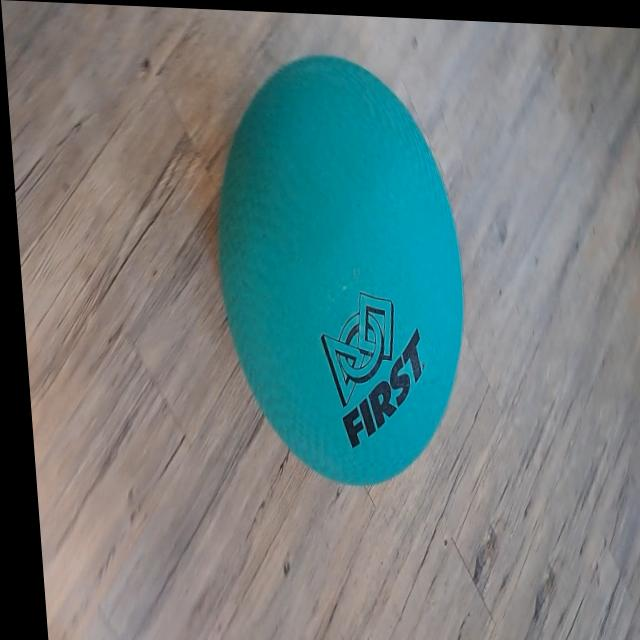ALGAE: (201, 47, 479, 492)
